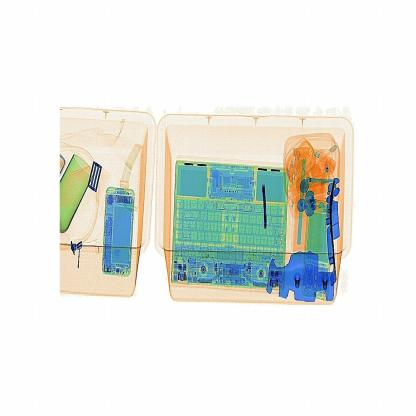knife: (250, 174, 280, 234)
